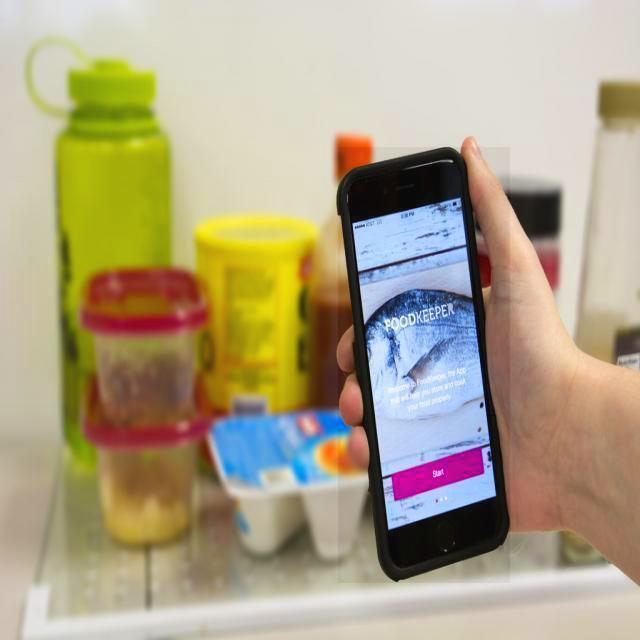phone: (339, 147, 510, 583)
